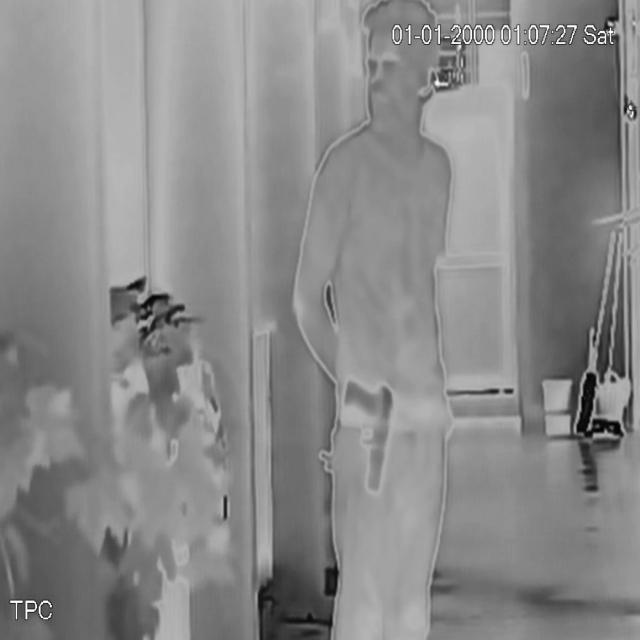Weapon: (338, 363, 398, 498)
